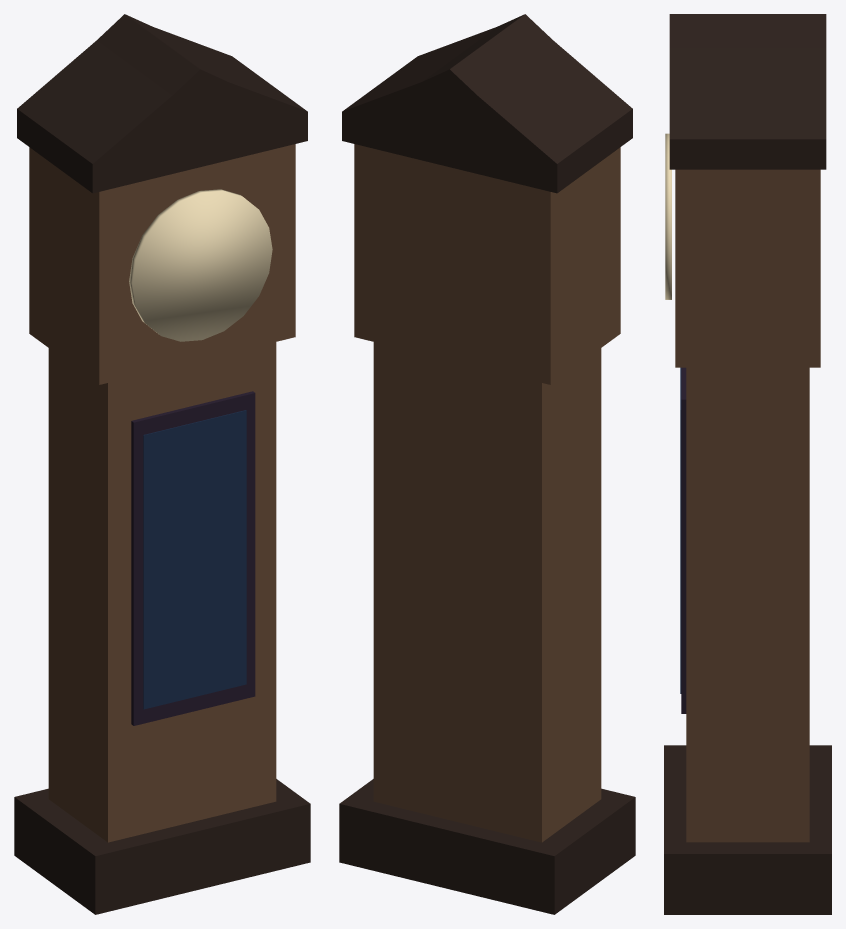
Rendered from clock_tall.glb.
The picture shows the model from 3 angles, left to right: view 1: azimuth 30°, elevation 25°; view 2: azimuth 150°, elevation 25°; view 3: azimuth 270°, elevation 25°; orthographic projection. The views are drawn at different scales.
Parts seen in each view (by area): view 1: clock_tall; view 2: clock_tall; view 3: clock_tall.
Boxes of the visible parts, <box> form: clock_tall: <box>14,14,310,914</box>; clock_tall: <box>339,14,635,914</box>; clock_tall: <box>664,14,831,914</box>.
Bounding box in the file's own units: 0.46 × 1.67 × 0.3.
